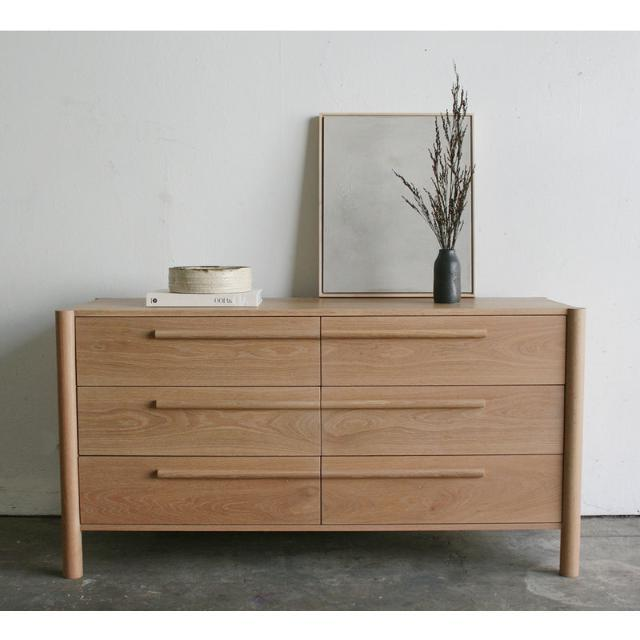dresser: (34, 271, 605, 589)
